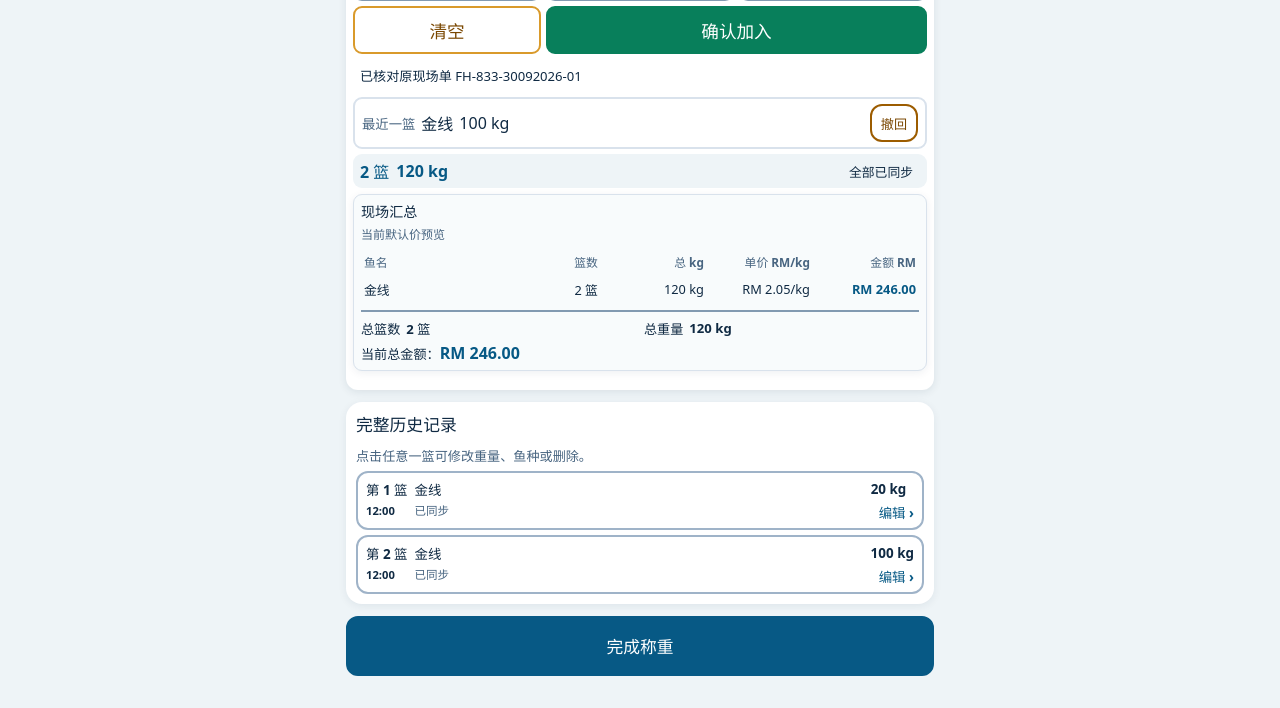
鱼头称重中任意篮编辑 › 最新一篮修改 kg 后最近一篮和金额立即更新，不建立第二条记录
(page scrolled)
Expected: the button "第 1 篮 金线 20 kg 12:00 已同步 编辑 ›" is shown, x1=356 y1=471 x2=924 y2=530
Click the button "第 2 篮 金线 100 kg 12:00 已同步 编辑 ›".
click(387, 554)  # box x1=356 y1=535 x2=924 y2=594
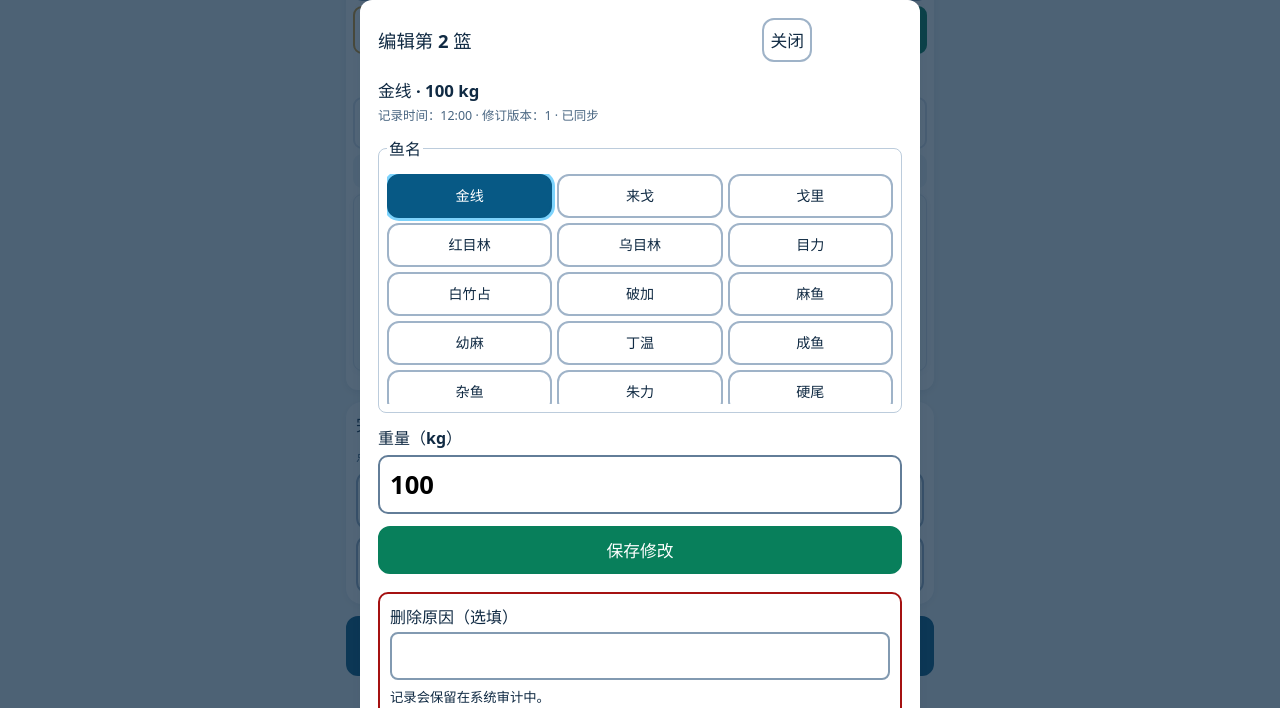
Replace the text in the field labelled "重量（kg）" with "80" at [640, 485], box x1=378 y1=455 x2=902 y2=514
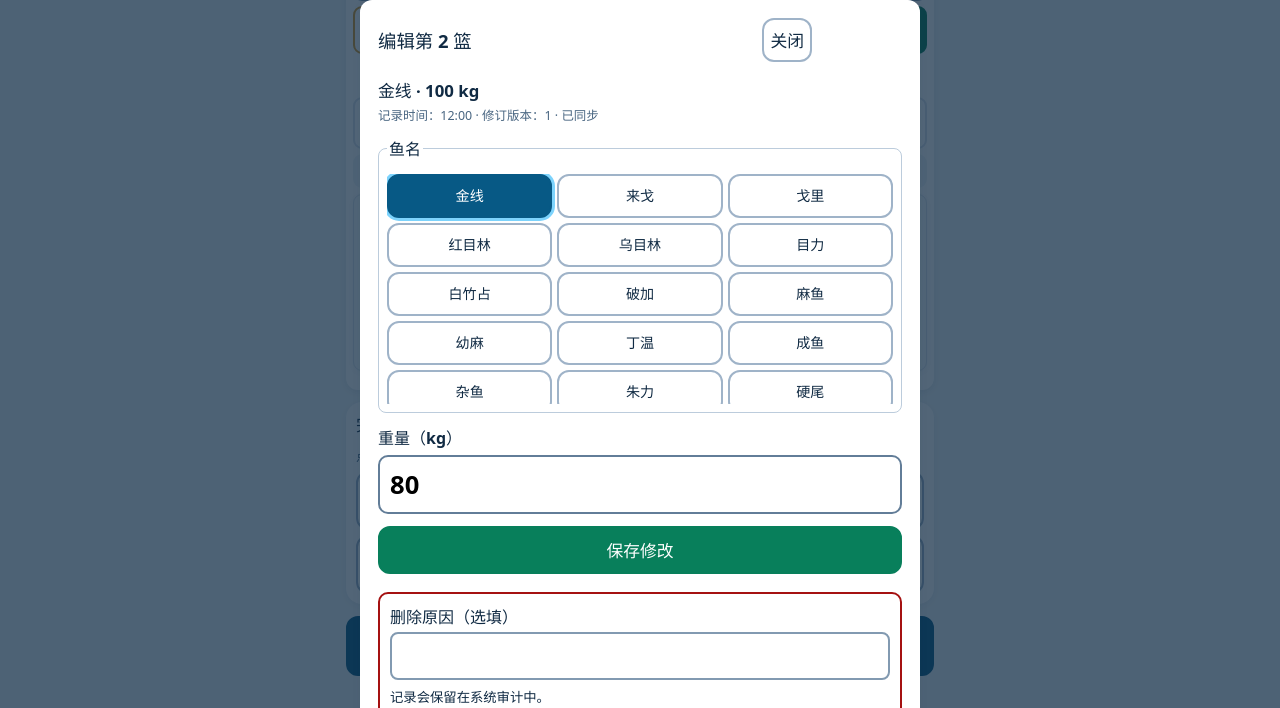
Click the button "保存修改".
click(640, 550)  # box x1=378 y1=526 x2=902 y2=574
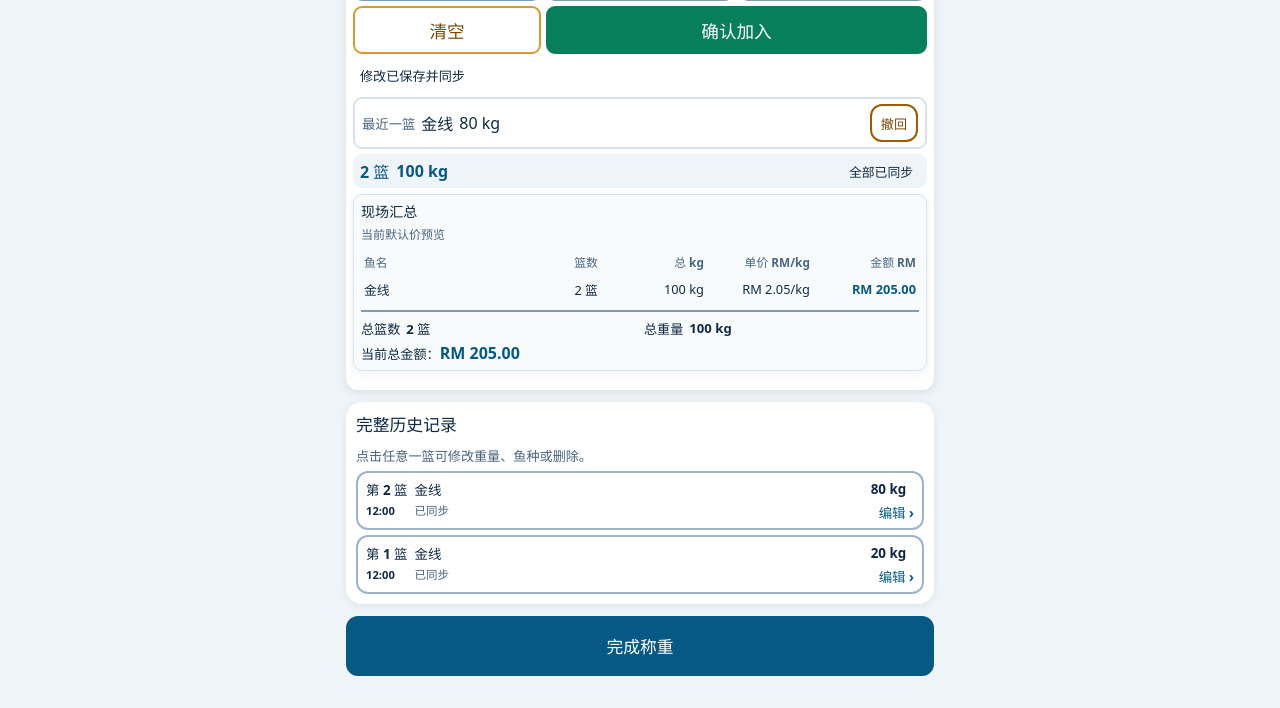
Now the text "最近一篮" shows "80 kg", box x1=353 y1=97 x2=927 y2=149
Now the element named "现场金额总计" shows "100 kg", box x1=361 y1=310 x2=919 y2=364
Now the element named "现场金额总计" shows "RM 205.00", box x1=440 y1=342 x2=520 y2=364
